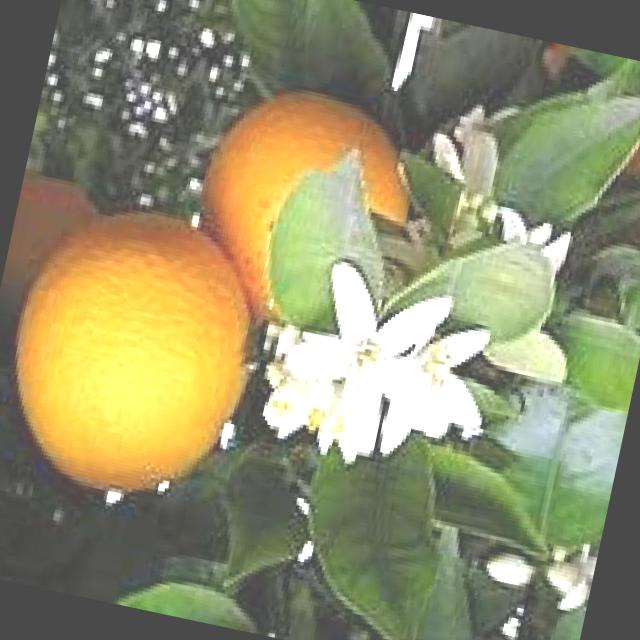Orange: (0, 191, 279, 518), (174, 73, 430, 359)
